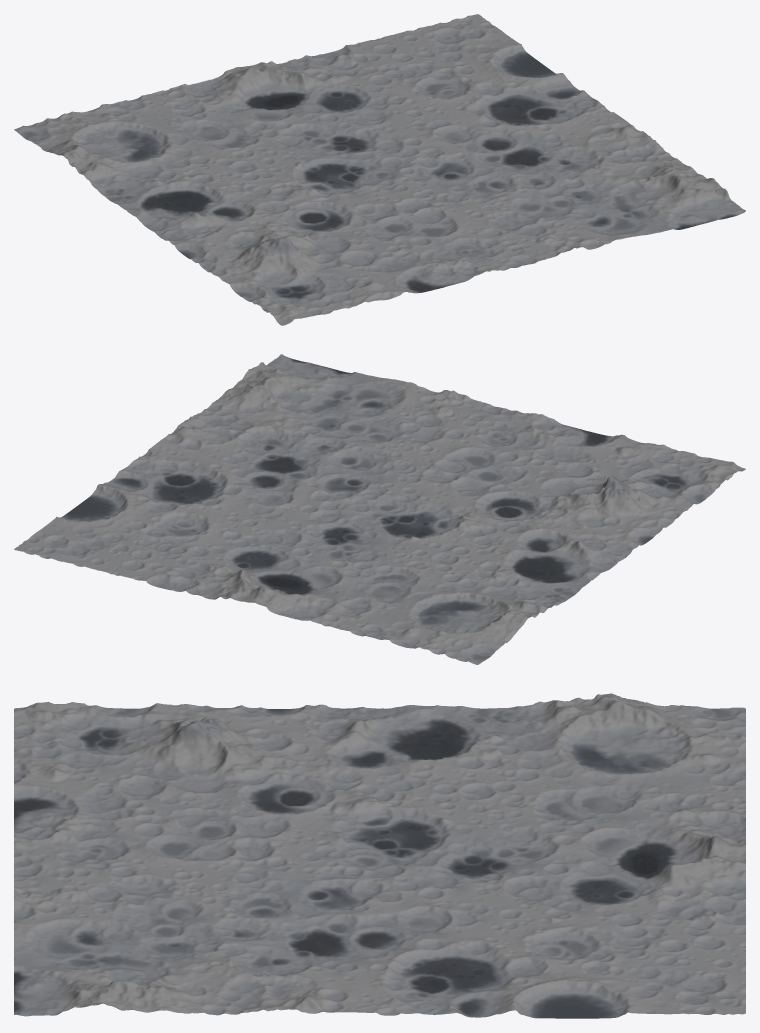
Rendered from moon-surface.glb.
The picture shows the model from 3 angles, top to bottom: view 1: azimuth 30°, elevation 25°; view 2: azimuth 150°, elevation 25°; view 3: azimuth 270°, elevation 25°; orthographic projection. The views are drawn at different scales.
Visible parts, largest first — view 1: moon_1, moon_0, moon_2, moon_3; view 2: moon_0, moon_1, moon_2, moon_3; view 3: moon_1, moon_0, moon_2, moon_3.
Part boxes in pixels (bbox=[...]): moon_1: bbox=[25, 60, 567, 299]; moon_0: bbox=[14, 14, 745, 325]; moon_2: bbox=[14, 20, 645, 325]; moon_3: bbox=[24, 15, 745, 322]; moon_0: bbox=[14, 354, 745, 664]; moon_1: bbox=[194, 394, 640, 660]; moon_2: bbox=[37, 380, 745, 664]; moon_3: bbox=[16, 354, 738, 659]; moon_1: bbox=[15, 712, 743, 901]; moon_0: bbox=[14, 694, 745, 1018]; moon_2: bbox=[15, 693, 744, 998]; moon_3: bbox=[15, 694, 744, 1018].
Size of the model in its own units: 9975 by 497 by 9975.
Materials: 1 (1 with a texture image).
